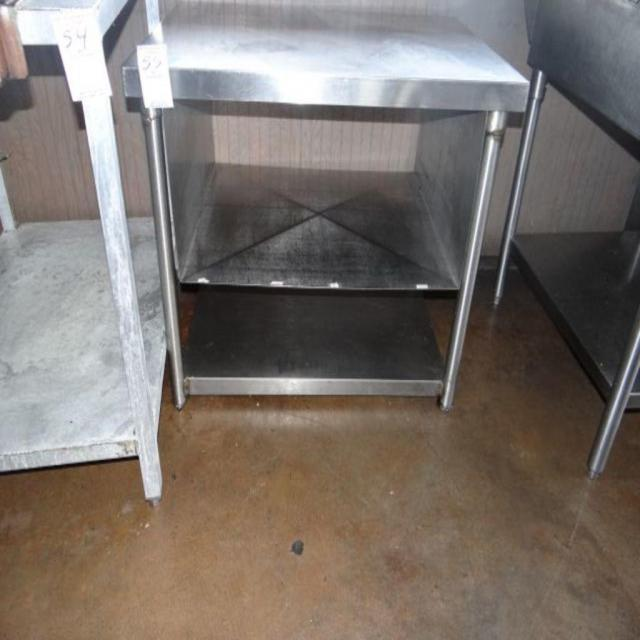Table: (95, 47, 532, 424)
